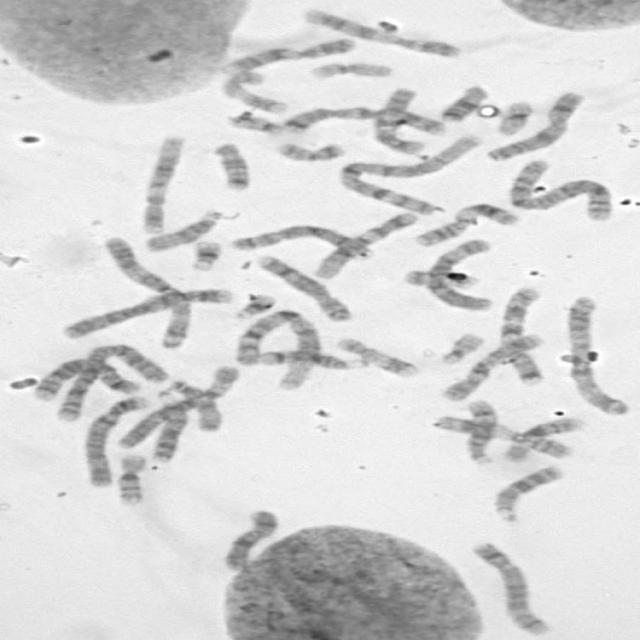A1: (336, 132, 485, 217), (234, 308, 325, 392)
A2: (52, 342, 174, 423), (506, 157, 616, 222)
A3: (102, 235, 194, 351), (566, 294, 633, 417)
B4: (59, 287, 237, 340), (81, 394, 151, 490)
B5: (469, 538, 553, 636), (30, 357, 143, 401)
C10: (442, 331, 546, 403), (369, 86, 426, 156)
C11: (432, 414, 575, 459), (409, 202, 524, 250)
C12: (312, 210, 419, 280), (140, 134, 188, 234)
C6: (114, 364, 240, 450), (422, 238, 498, 312)
C7: (279, 105, 450, 137), (497, 285, 546, 386)
C8: (256, 255, 356, 324), (229, 224, 378, 262)
C9: (301, 7, 464, 60), (224, 38, 358, 72)
D13: (491, 464, 566, 523), (150, 389, 188, 462)
D14: (461, 398, 500, 466), (257, 350, 373, 372)
D15: (142, 208, 224, 254), (168, 379, 228, 434)
E16: (501, 416, 586, 464), (114, 451, 148, 506)
E17: (334, 336, 422, 378), (222, 71, 289, 114)
E18: (212, 142, 254, 192), (438, 84, 489, 124)
F19: (306, 61, 394, 81), (495, 100, 536, 136)
F20: (273, 140, 348, 162), (403, 269, 481, 290)
G21: (188, 240, 224, 273), (233, 294, 278, 320)
G22: (437, 332, 488, 365), (227, 116, 281, 134)
X: (484, 91, 587, 163), (223, 508, 280, 574)
